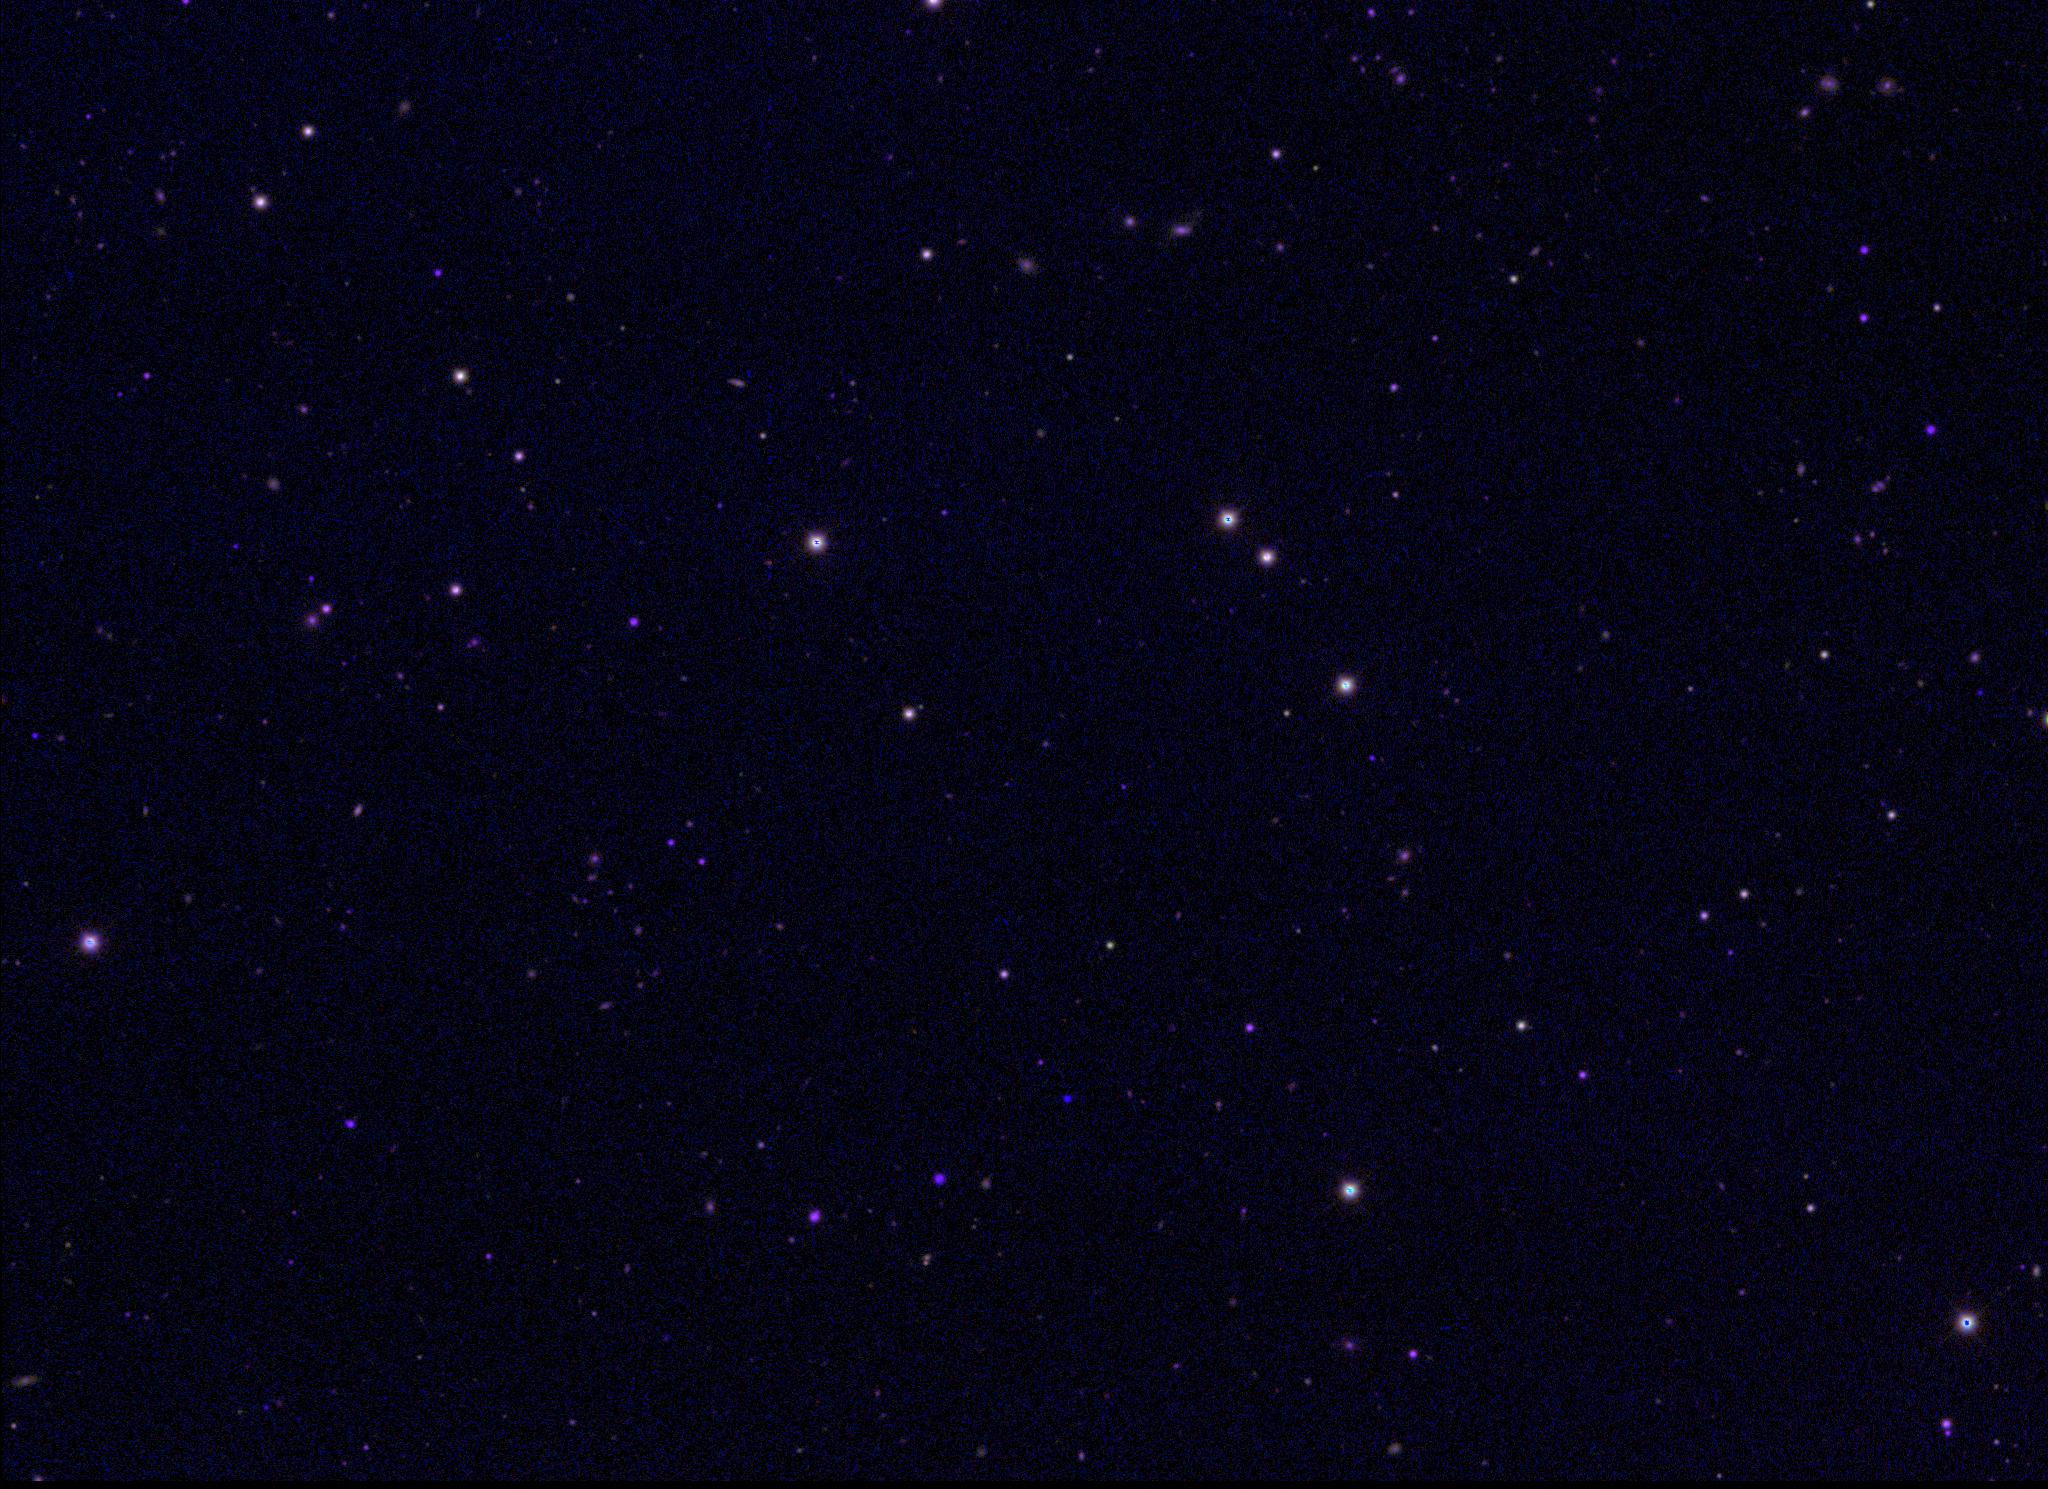L: (1061, 1090, 1073, 1104)
